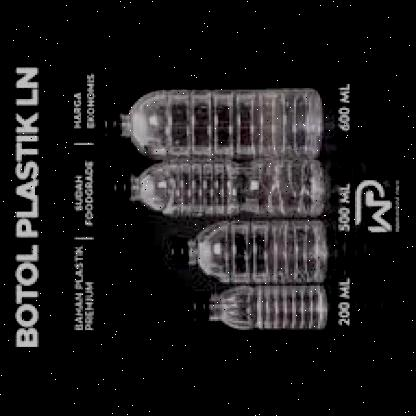Plastic Bottle: (101, 87, 322, 159), (112, 158, 324, 218), (170, 218, 326, 284), (191, 285, 327, 331)
